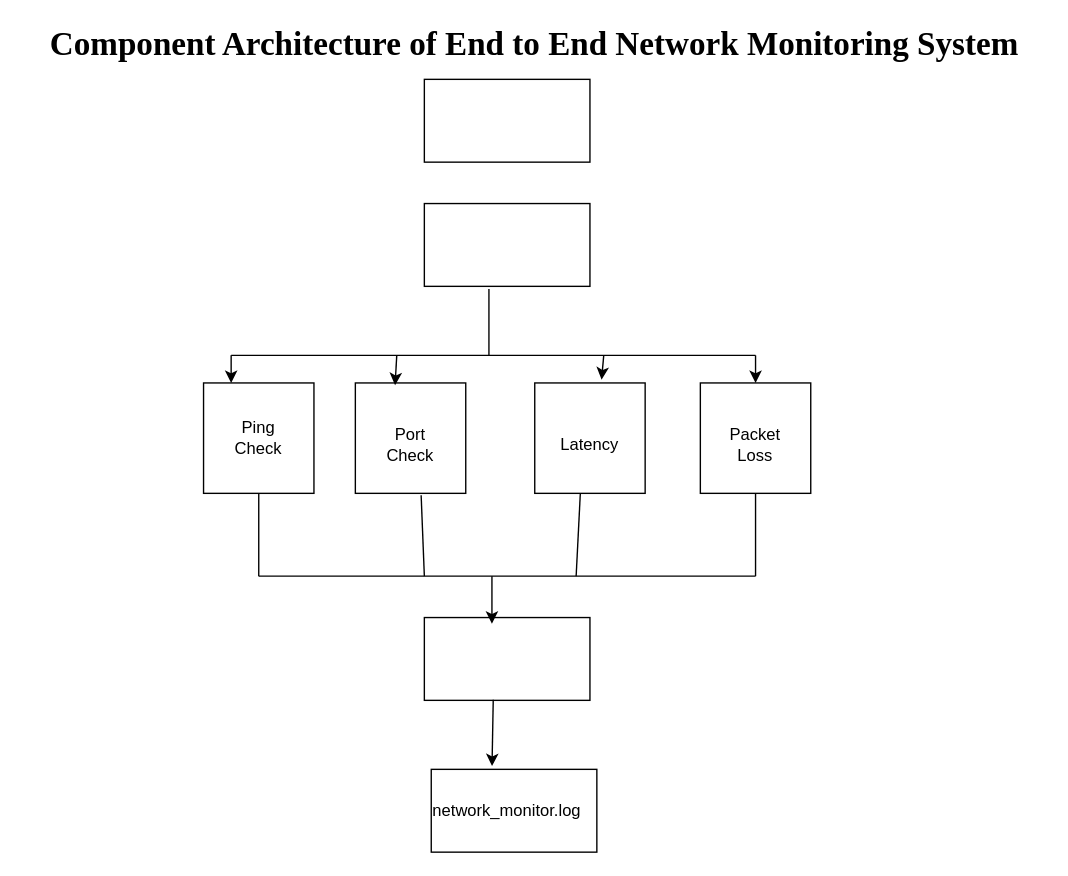
Some shapes in this 1068 by 876 pixel diagram are drawn without their labels. Here are the shapes that lost their labels. From the top down, the centre of each, then its label:
point (506, 120): network_monitor.csv
point (506, 244): network_monitor.sh
point (506, 658): Generate log File
